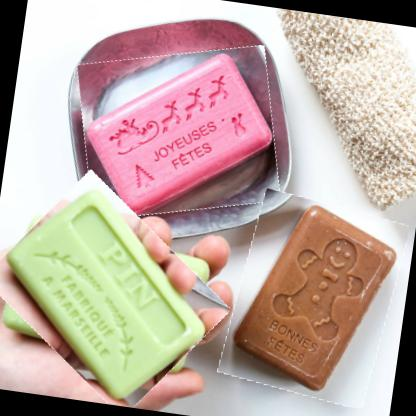soap: (0, 180, 231, 407), (65, 30, 292, 233), (220, 189, 406, 408)
